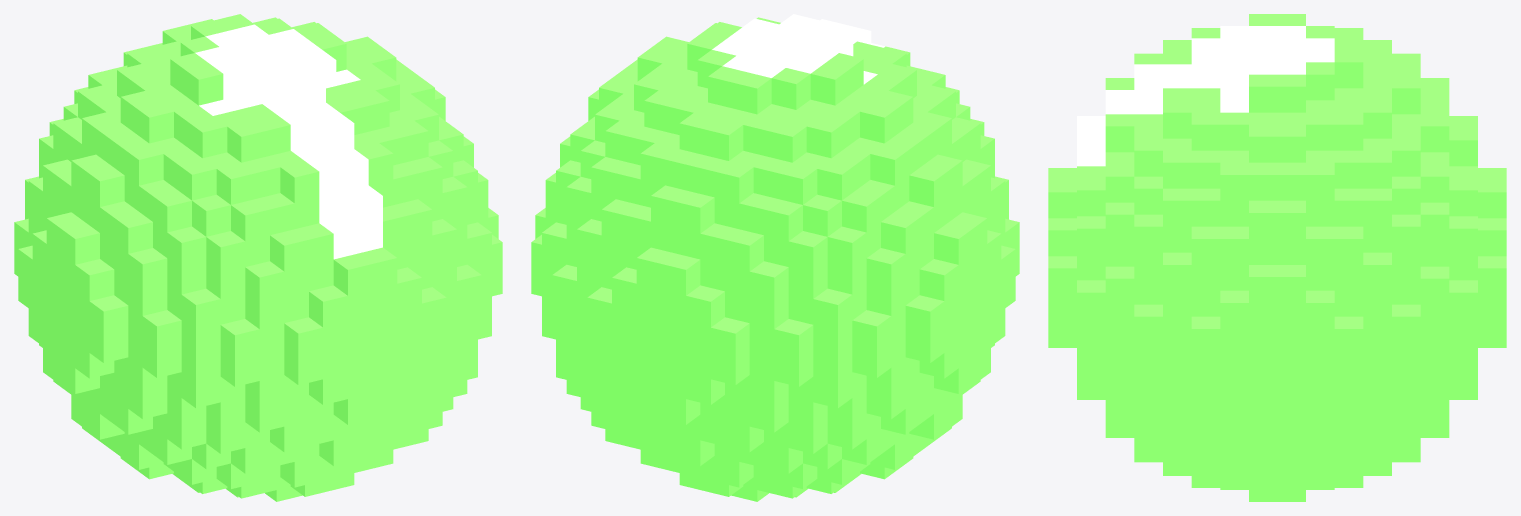
Rendered from item_MAGIC_INFUSE.glb.
3 views of the same model, side by side, from view 1: azimuth 30°, elevation 25°; view 2: azimuth 150°, elevation 25°; view 3: azimuth 270°, elevation 25° (orthographic).
Visible parts, largest first — view 1: item_MAGIC_INFUSE; view 2: item_MAGIC_INFUSE; view 3: item_MAGIC_INFUSE.
Boxes of the visible parts, left/top/right/bottom form: item_MAGIC_INFUSE: left=14, top=14, right=502, bottom=501; item_MAGIC_INFUSE: left=531, top=14, right=1019, bottom=501; item_MAGIC_INFUSE: left=1048, top=14, right=1506, bottom=501.
Bounding box in the file's own units: 0.1818 × 0.1818 × 0.1818.
1 material, 1 textured.
